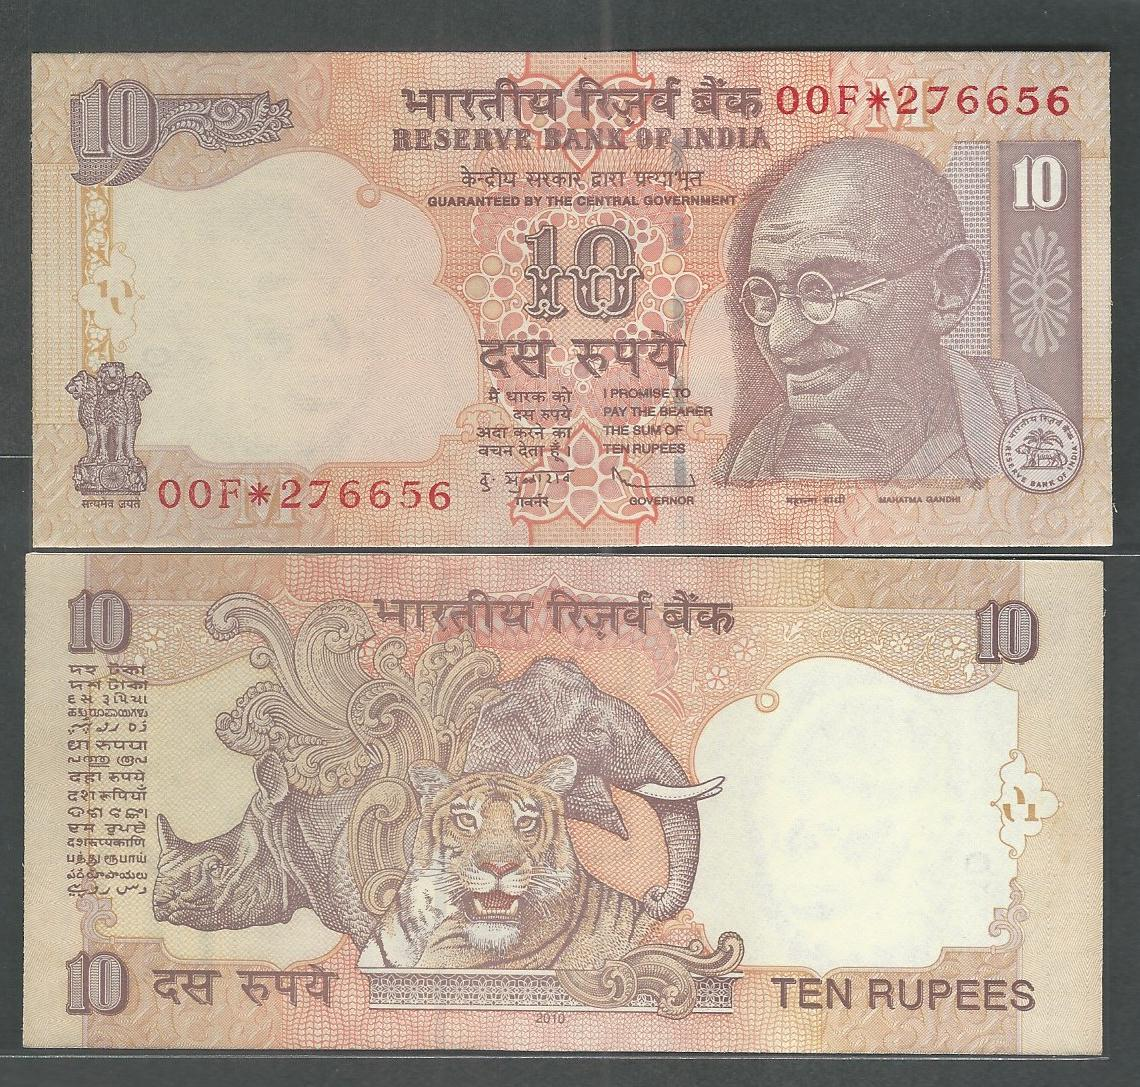ten_rupees_note: (23, 553, 1111, 1050), (28, 51, 1117, 548)
